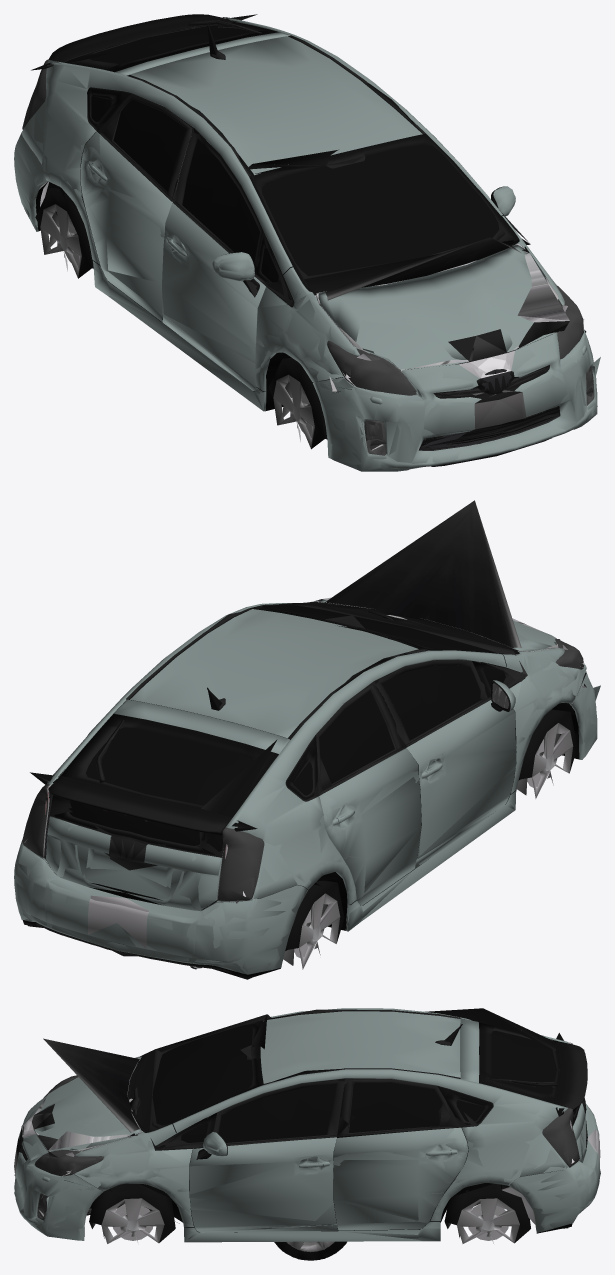
Rendered from hatch2.glb.
The picture shows the model from 3 angles, top to bottom: view 1: azimuth 30°, elevation 25°; view 2: azimuth 150°, elevation 25°; view 3: azimuth 270°, elevation 25°; orthographic projection. The views are drawn at different scales.
Visible parts, largest first — view 1: body0, body2, body1; view 2: body0, body2, body1; view 3: body0, body2, body1, wheel0, wheel1.
Boxes of the visible parts, x1,y1,x2,y2 form: body0: [14, 14, 597, 471]; body2: [14, 14, 600, 471]; body1: [25, 19, 595, 466]; body0: [14, 600, 597, 978]; body2: [14, 500, 600, 974]; body1: [25, 600, 586, 979]; body0: [14, 1008, 600, 1241]; body2: [14, 1008, 600, 1243]; body1: [14, 1009, 596, 1232]; wheel0: [274, 1241, 346, 1260]; wheel1: [274, 1241, 346, 1260].
Bounding box in the file's own units: 2.04 × 1.98 × 4.54.
8 materials, 5 textured.
